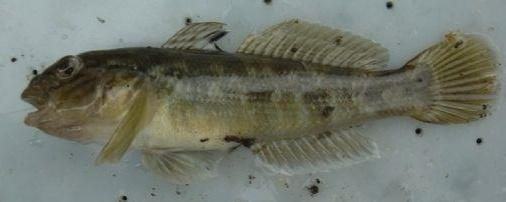Goby: (12, 23, 501, 183)
